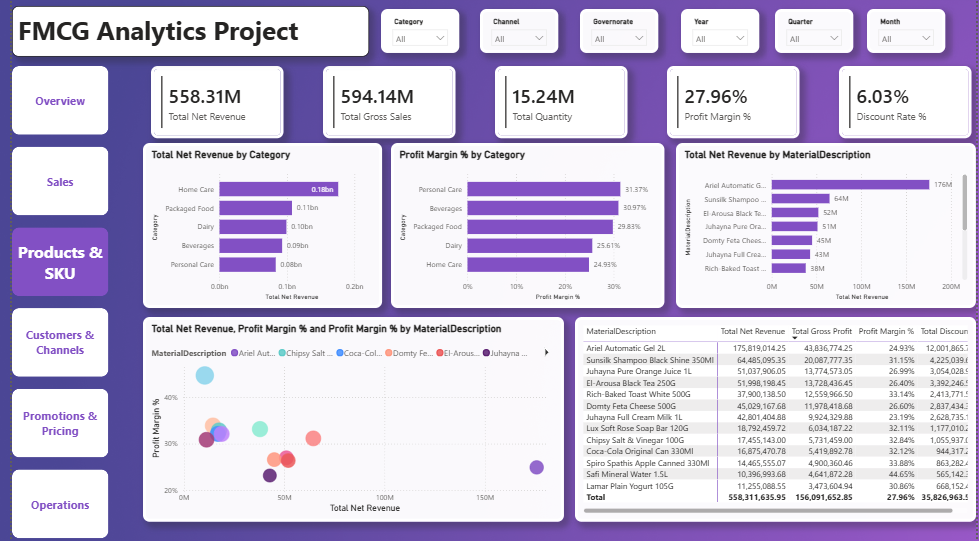

This screenshot's page, from the dashboard's own definition file:
{"tool":"powerbi","page":{"name":"Products & SKU","canvas":[1600,900],"ordinal":2},"visuals":[{"type":"cardVisual","fields":{"Data":["_Measures.Total Net Revenue"]},"box":[230.5,111.6,220,120],"z":0},{"type":"cardVisual","fields":{"Data":["_Measures.Total Gross Sales"]},"box":[516.3,111.6,220,120],"z":1000},{"type":"cardVisual","fields":{"Data":["_Measures.Profit Margin %"]},"box":[1088,111.6,220,120],"z":2000},{"type":"cardVisual","fields":{"Data":["_Measures.Total Quantity"]},"box":[802.1,111.6,220,120],"z":3000},{"type":"cardVisual","fields":{"Data":["_Measures.Discount Rate %"]},"box":[1373.8,111.6,220,120],"z":4000},{"type":"clusteredBarChart","fields":{"Category":["dim_products.Category"],"Y":["_Measures.Total Net Revenue"]},"box":[217.7,239.6,397,274.4],"z":5000},{"type":"clusteredBarChart","fields":{"Category":["dim_products.Category"],"Y":["_Measures.Profit Margin %"]},"box":[629.3,239.6,453.7,274.4],"z":6000},{"type":"scatterChart","fields":{"Series":["dim_products.MaterialDescription"],"Size":["_Measures.Profit Margin %"],"X":["_Measures.Total Net Revenue"],"Y":["_Measures.Profit Margin %"]},"box":[217.7,528.7,698.8,340.2],"z":7000},{"type":"clusteredBarChart","fields":{"Category":["dim_products.MaterialDescription"],"Y":["_Measures.Total Net Revenue"]},"box":[1103,239.6,497.6,274.4],"z":8000},{"type":"pivotTable","fields":{"Rows":["dim_products.MaterialDescription"],"Values":["_Measures.Total Net Revenue","_Measures.Total Gross Profit","_Measures.Profit Margin %","_Measures.Total Discount"]},"box":[934.8,528.7,665.9,340.2],"z":9000},{"type":"slicer","fields":{"Values":["dim_calender.Year"]},"box":[1110.4,16.5,130.2,73.2],"z":9001},{"type":"slicer","fields":{"Values":["dim_calender.Quarter"]},"box":[1267.7,16.5,130.2,73.2],"z":9002},{"type":"slicer","fields":{"Values":["dim_calender.Month"]},"box":[1419.5,16.5,130.2,73.2],"z":9003},{"type":"slicer","fields":{"Values":["dim_customers.Governorate"]},"box":[943.9,16.5,130.2,73.2],"z":9004},{"type":"slicer","fields":{"Values":["dim_channels.ChannelName"]},"box":[777.4,16.5,130.2,73.2],"z":9005},{"type":"slicer","fields":{"Values":["dim_products.Category"]},"box":[612.8,16.5,130.2,73.2],"z":9006},{"type":"textbox","box":[0,11,592.7,84.1],"z":9007},{"type":"pageNavigator","box":[0,111.6,161,786.6],"z":9008}]}

Visuals, with their boxes in screenshot pixels (x1, y1, x2, y2), scaled from the page's 1600x900 canvas onto the 979x541 screenshot:
cardVisual - _Measures.Total Net Revenue: (x1=141, y1=67, x2=276, y2=139)
cardVisual - _Measures.Total Gross Sales: (x1=316, y1=67, x2=451, y2=139)
cardVisual - _Measures.Profit Margin %: (x1=666, y1=67, x2=800, y2=139)
cardVisual - _Measures.Total Quantity: (x1=491, y1=67, x2=625, y2=139)
cardVisual - _Measures.Discount Rate %: (x1=841, y1=67, x2=975, y2=139)
clusteredBarChart - dim_products.Category x _Measures.Total Net Revenue: (x1=133, y1=144, x2=376, y2=309)
clusteredBarChart - dim_products.Category x _Measures.Profit Margin %: (x1=385, y1=144, x2=663, y2=309)
scatterChart - dim_products.MaterialDescription x _Measures.Profit Margin %: (x1=133, y1=318, x2=561, y2=522)
clusteredBarChart - dim_products.MaterialDescription x _Measures.Total Net Revenue: (x1=675, y1=144, x2=978, y2=309)
pivotTable - dim_products.MaterialDescription x _Measures.Total Net Revenue: (x1=572, y1=318, x2=978, y2=522)
slicer - dim_calender.Year: (x1=679, y1=10, x2=759, y2=54)
slicer - dim_calender.Quarter: (x1=776, y1=10, x2=855, y2=54)
slicer - dim_calender.Month: (x1=869, y1=10, x2=948, y2=54)
slicer - dim_customers.Governorate: (x1=578, y1=10, x2=657, y2=54)
slicer - dim_channels.ChannelName: (x1=476, y1=10, x2=555, y2=54)
slicer - dim_products.Category: (x1=375, y1=10, x2=455, y2=54)
textbox: (x1=0, y1=7, x2=363, y2=57)
pageNavigator: (x1=0, y1=67, x2=99, y2=540)
